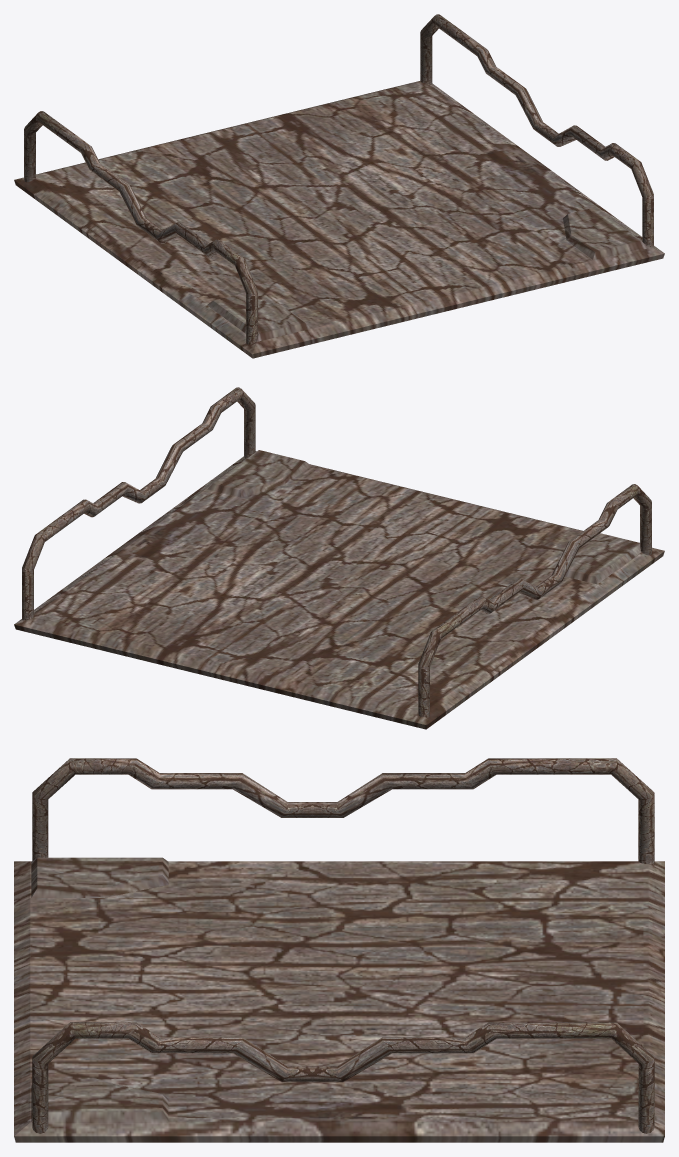
File: Bridge_b_4x4.FBX
3 renders of one model, top to bottom at view 1: azimuth 30°, elevation 25°; view 2: azimuth 150°, elevation 25°; view 3: azimuth 270°, elevation 25°, orthographic. The views are drawn at different scales.
Parts seen in each view (by area): view 1: Bridge_b_4x4; view 2: Bridge_b_4x4; view 3: Bridge_b_4x4.
Part boxes in pixels (left/top/right/bottom): Bridge_b_4x4: left=14, top=14, right=664, bottom=358; Bridge_b_4x4: left=14, top=387, right=664, bottom=729; Bridge_b_4x4: left=14, top=758, right=664, bottom=1142.
Bounding box in the file's own units: 4 × 4 × 0.7831.
